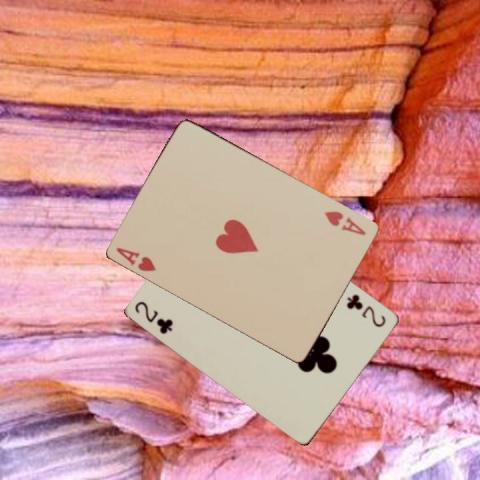2c: (343, 290, 388, 328), (132, 298, 175, 335)
Ah: (322, 207, 369, 237), (113, 244, 158, 273)
